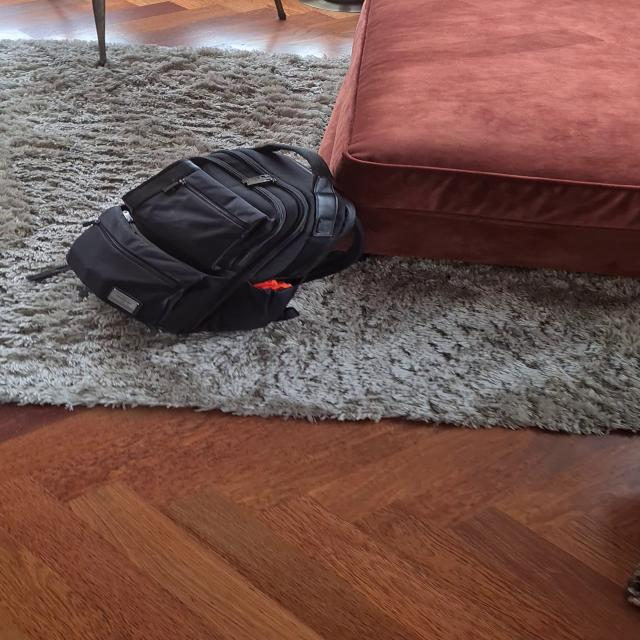backpack: (54, 136, 376, 340)
